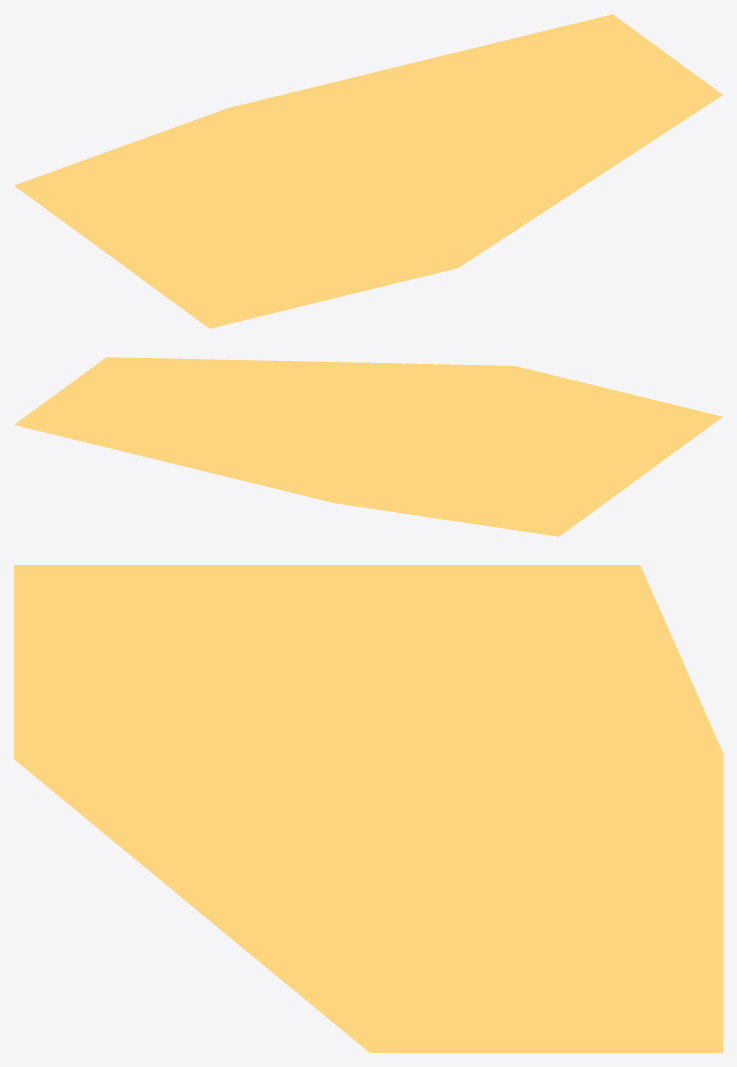
File: bp_area_max.glb
3 renders of one model, top to bottom at view 1: azimuth 30°, elevation 25°; view 2: azimuth 150°, elevation 25°; view 3: azimuth 270°, elevation 25°, orthographic. The views are drawn at different scales.
Parts seen in each view (by area): view 1: Mesh_0.001; view 2: Mesh_0.001; view 3: Mesh_0.001.
Boxes of the visible parts, x1,y1,x2,y2 form: Mesh_0.001: (14, 14, 722, 328); Mesh_0.001: (14, 357, 722, 536); Mesh_0.001: (14, 565, 722, 1052).
Size of the model in its own units: 0.9144 by 0.000112 by 0.5617.
